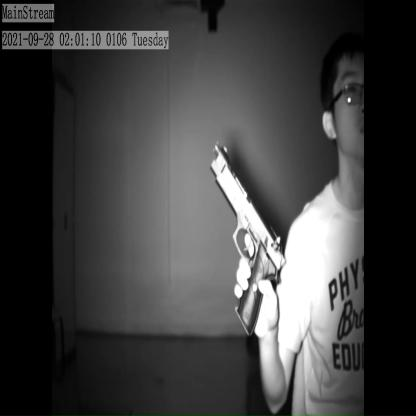weapon: (208, 141, 285, 342)
